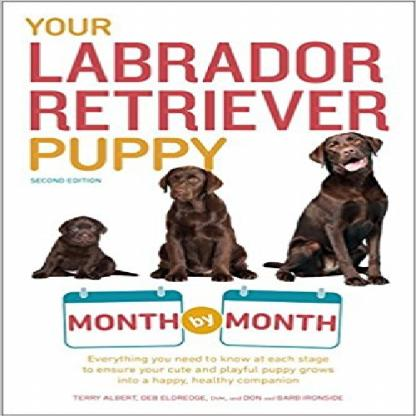dog: (267, 133, 392, 284), (150, 171, 258, 287), (30, 209, 141, 279)
